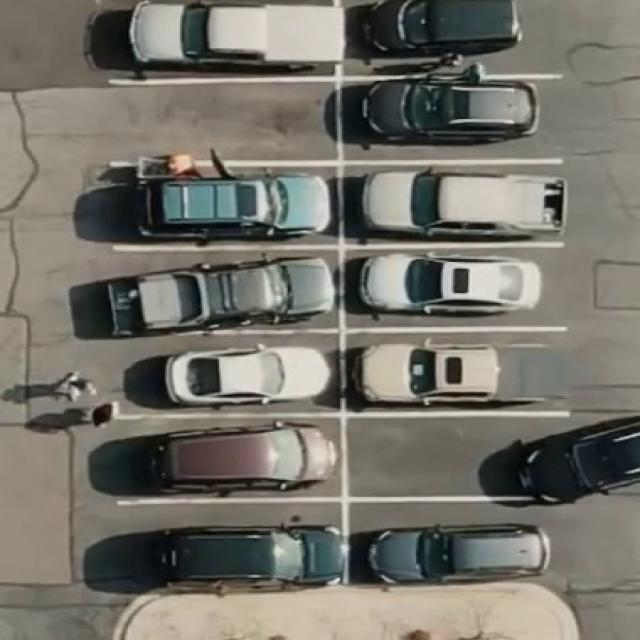empty: (115, 90, 326, 153)
notEmpty: (348, 166, 568, 241), (352, 336, 566, 410), (126, 512, 337, 586), (349, 253, 563, 325), (355, 508, 556, 584), (116, 0, 330, 71), (358, 424, 570, 494), (348, 86, 560, 155), (352, 2, 560, 69), (118, 257, 331, 322), (126, 340, 334, 406), (114, 175, 332, 236), (129, 427, 338, 490)
